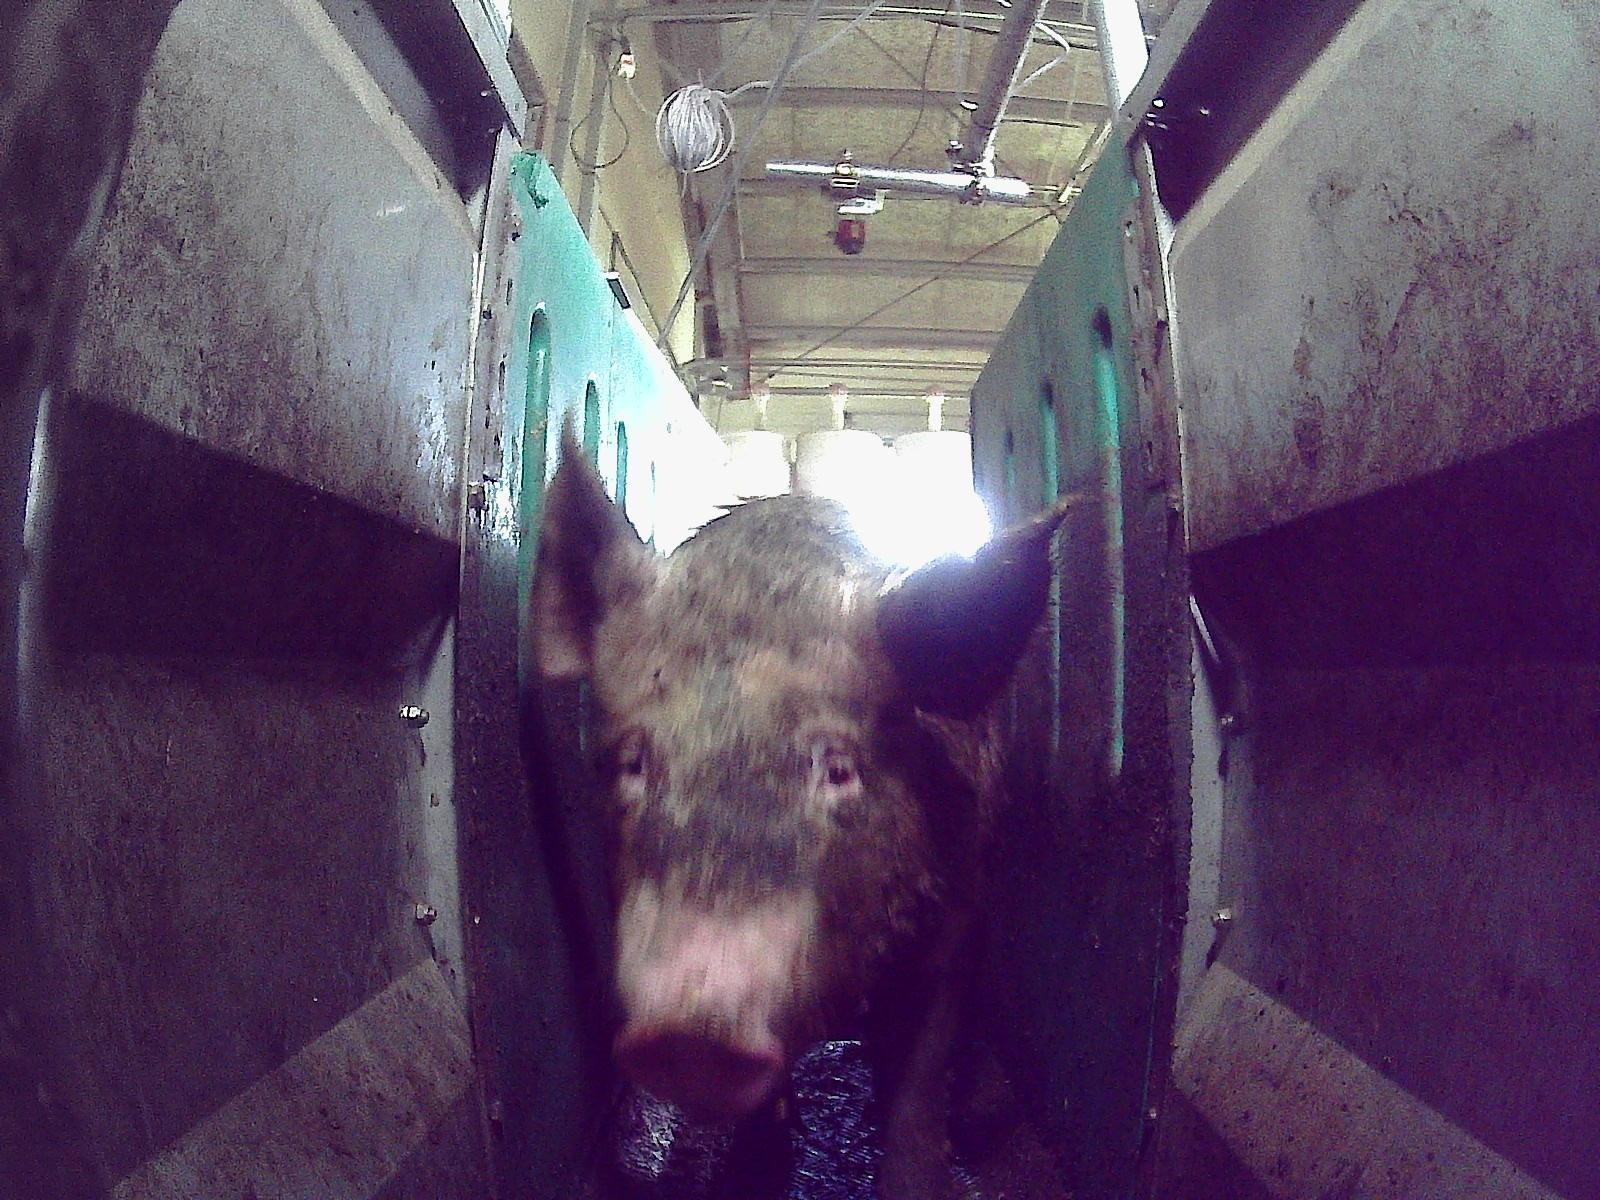Face: (583, 599, 901, 1114)
